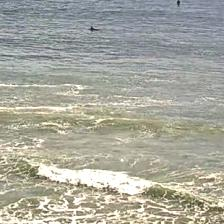surfer: (89, 26, 103, 31), (176, 0, 180, 5)
